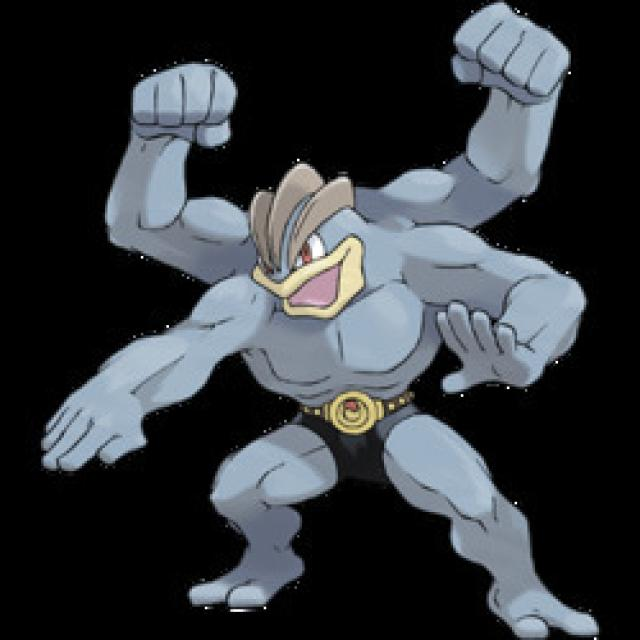Machamp: (165, 162, 572, 628)
